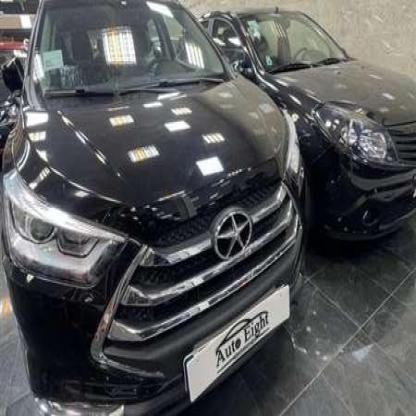Car: (0, 0, 300, 394), (215, 0, 416, 254)
